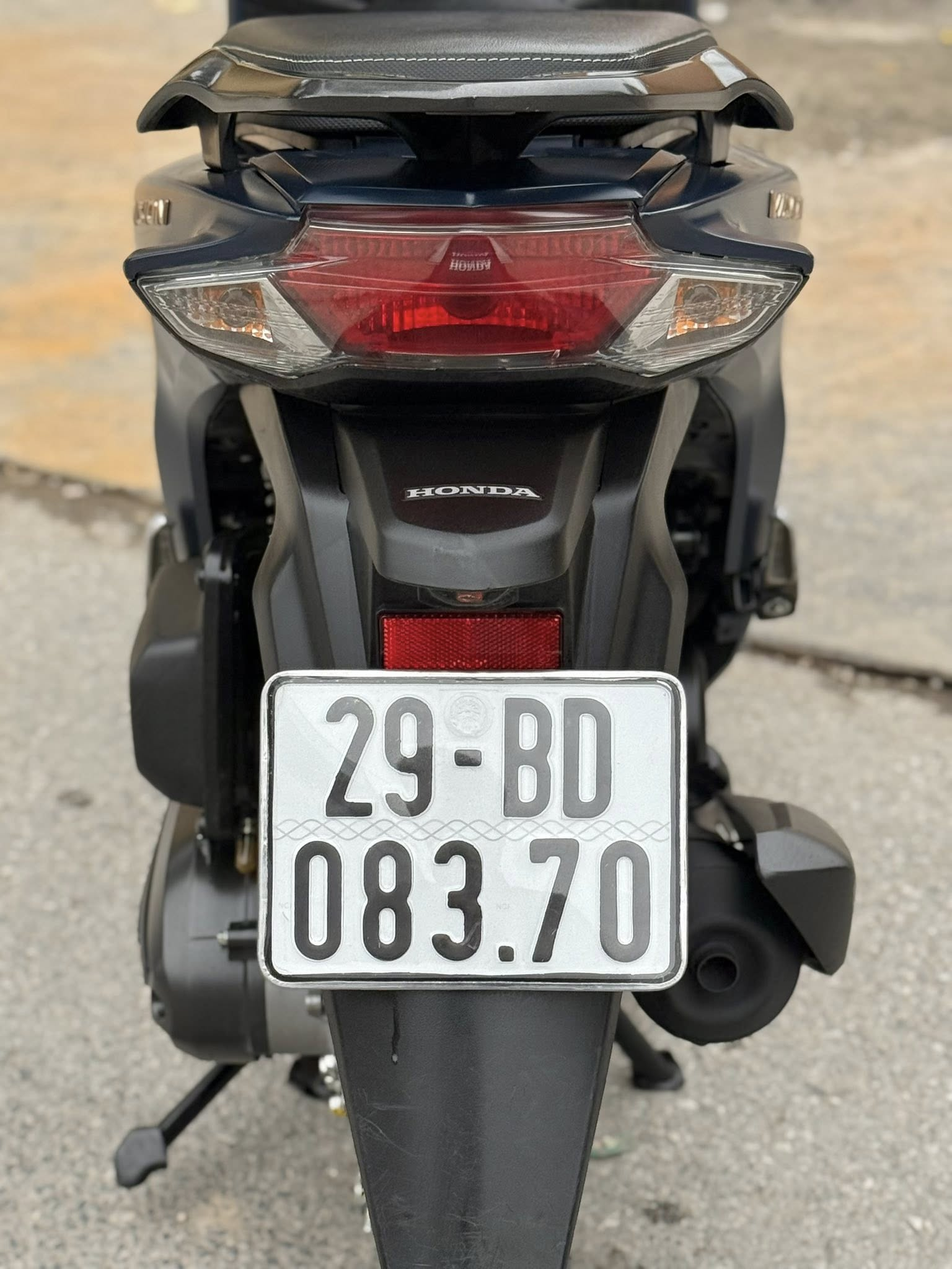bien_so: (250, 655, 699, 1009)
